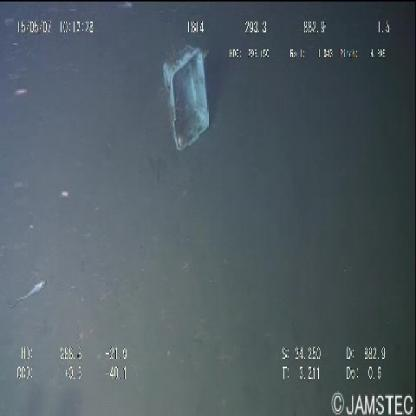Rác: (156, 34, 212, 159)
